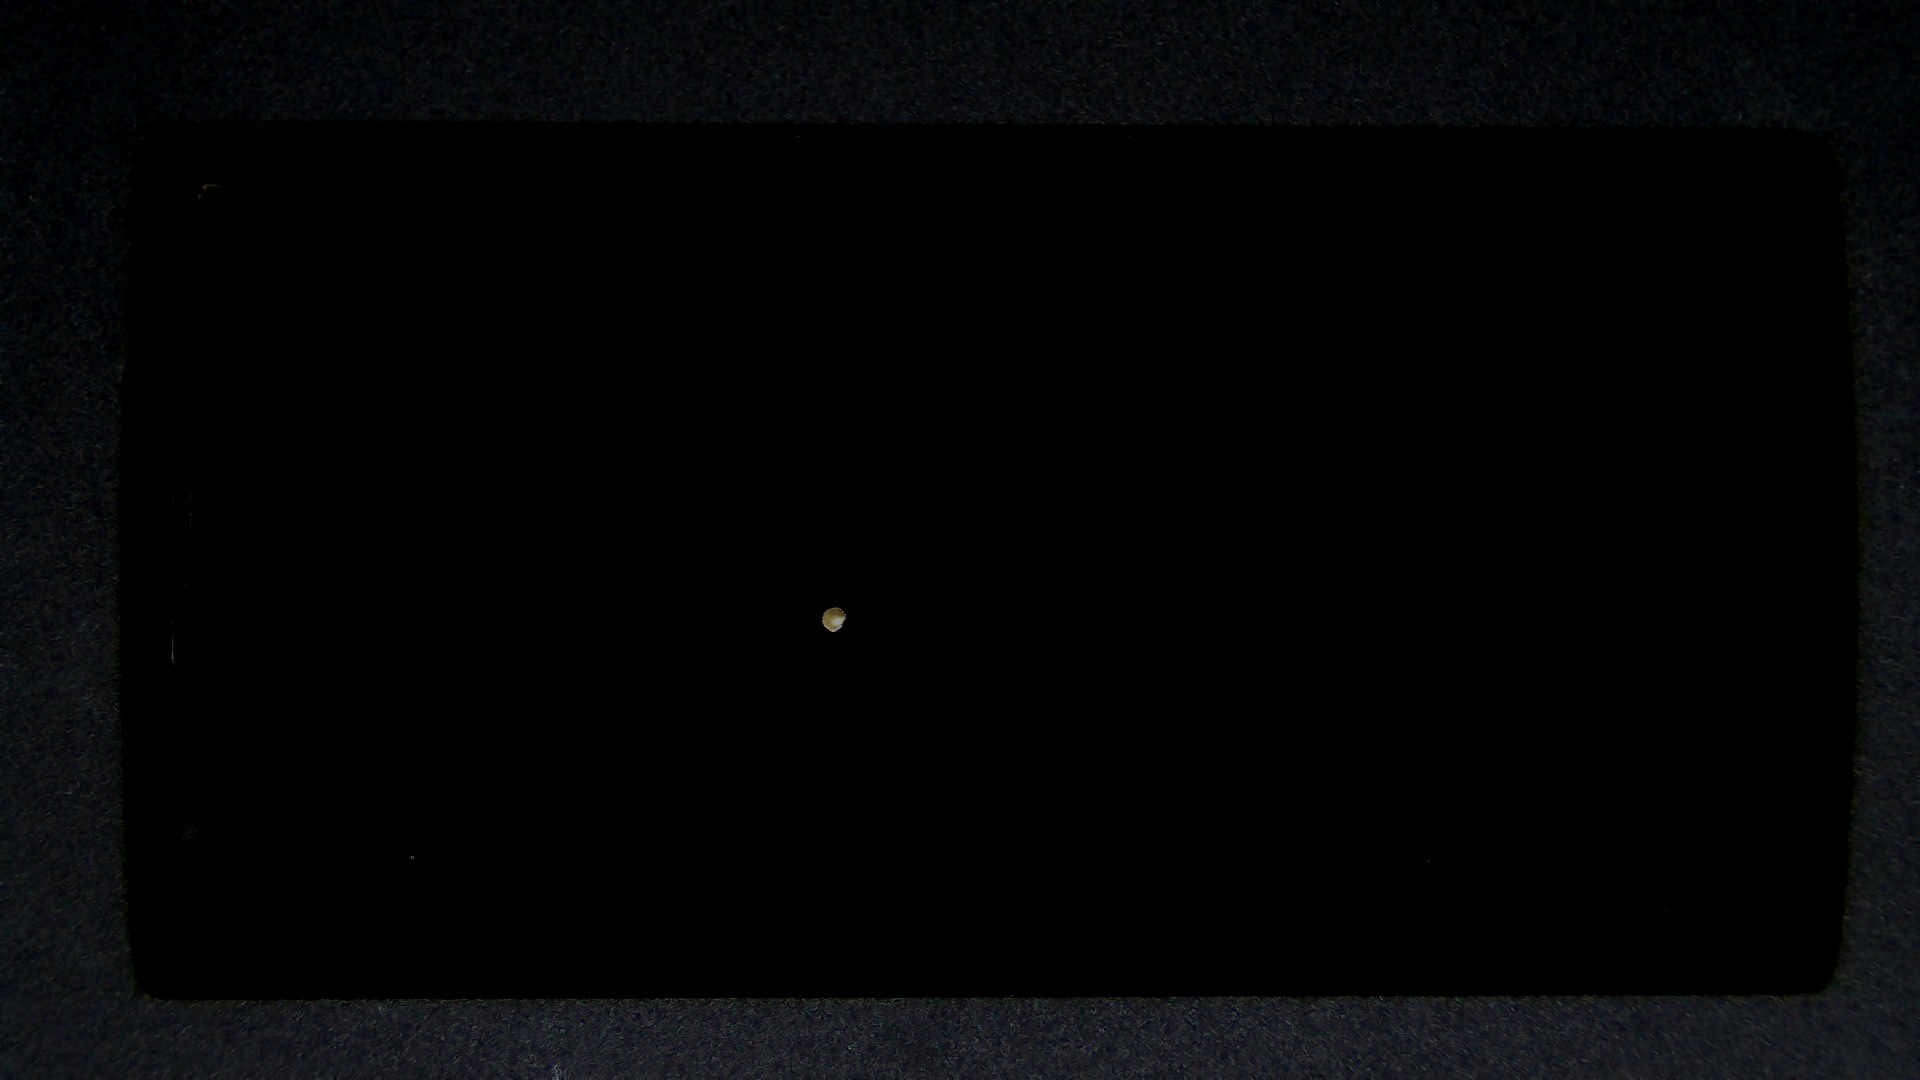oil: (415, 302, 1244, 910)
